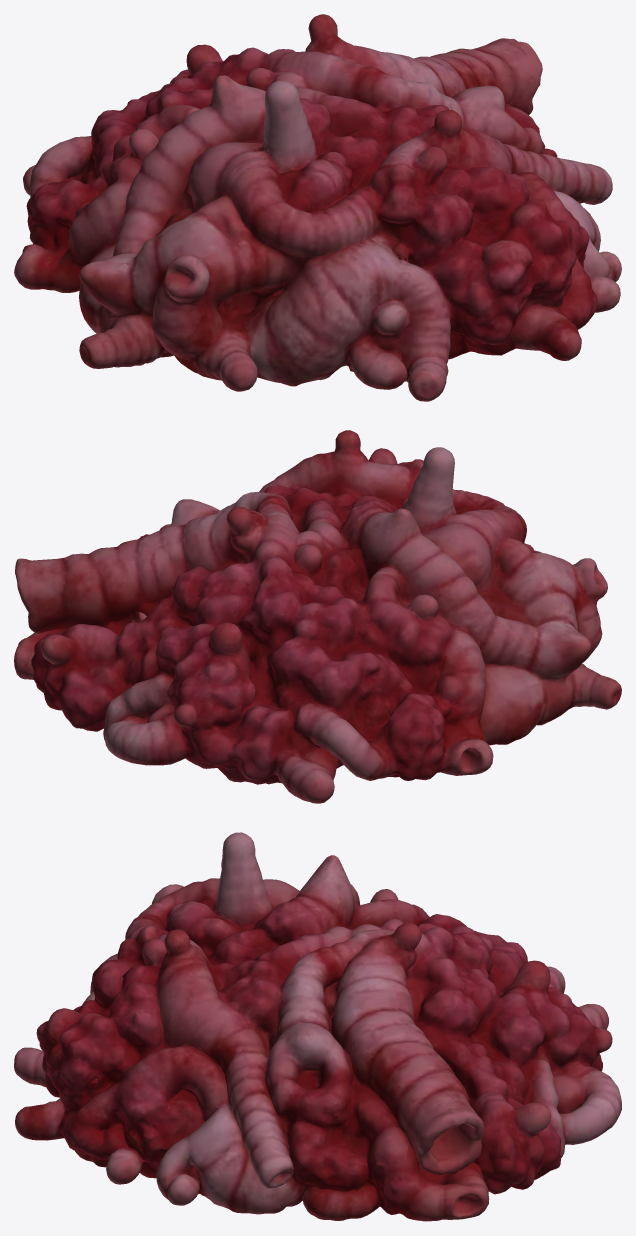
Rendered from SARGN0_2026-08-17T000737.604.glb.
The picture shows the model from 3 angles, top to bottom: view 1: azimuth 30°, elevation 25°; view 2: azimuth 150°, elevation 25°; view 3: azimuth 270°, elevation 25°; orthographic projection. The views are drawn at different scales.
Parts seen in each view (by area): view 1: world; view 2: world; view 3: world.
Part boxes in pixels (x1,y1,x2,y2): world: (14,14,621,401); world: (14,430,621,803); world: (14,832,621,1221).
Size of the model in its own units: 0.9994 by 0.4371 by 1.
Materials: 1 (1 with a texture image).
